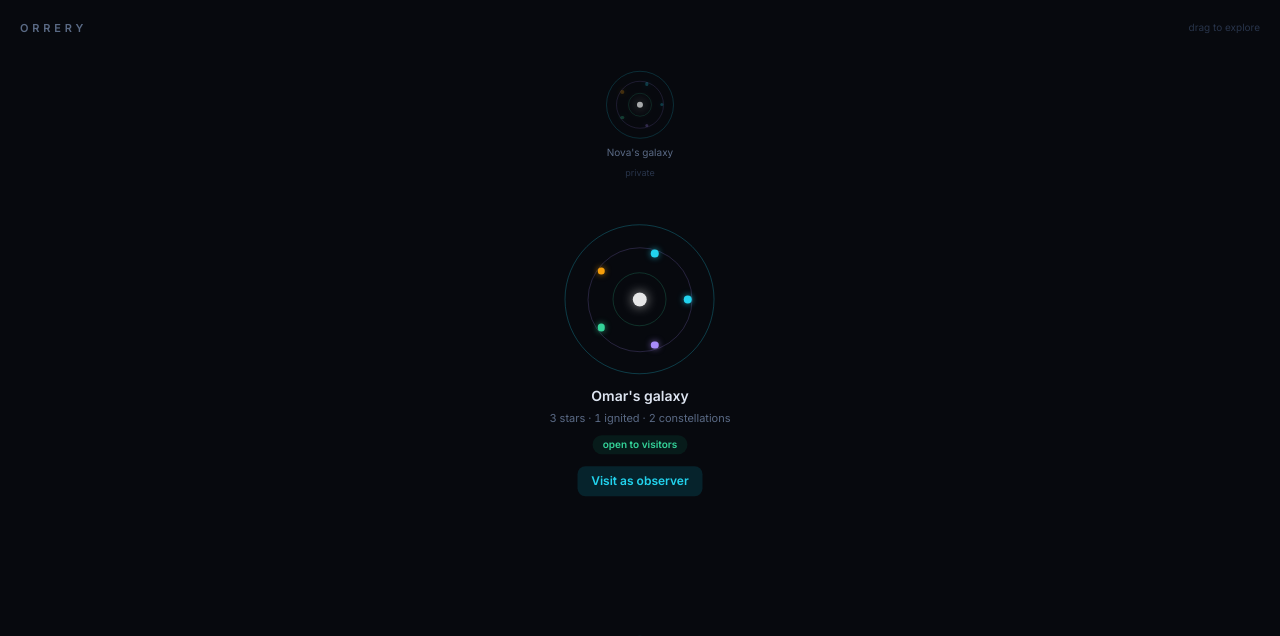
Test: UniverseScene › renders real account galaxies as sealed destinations
The image size is (1280, 636).
Click the button "Nova's galaxy private".
click(640, 125)  # box [606,71,674,179]
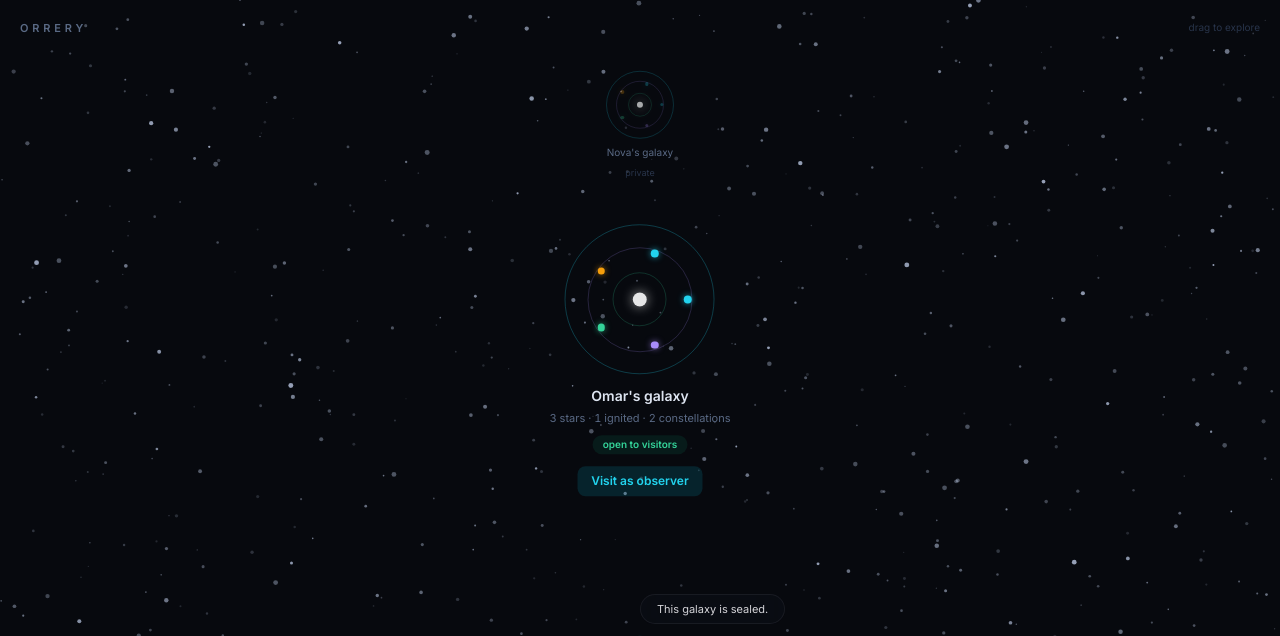
Check: the text "This galaxy is sealed." is shown, box [640,594,785,624]
